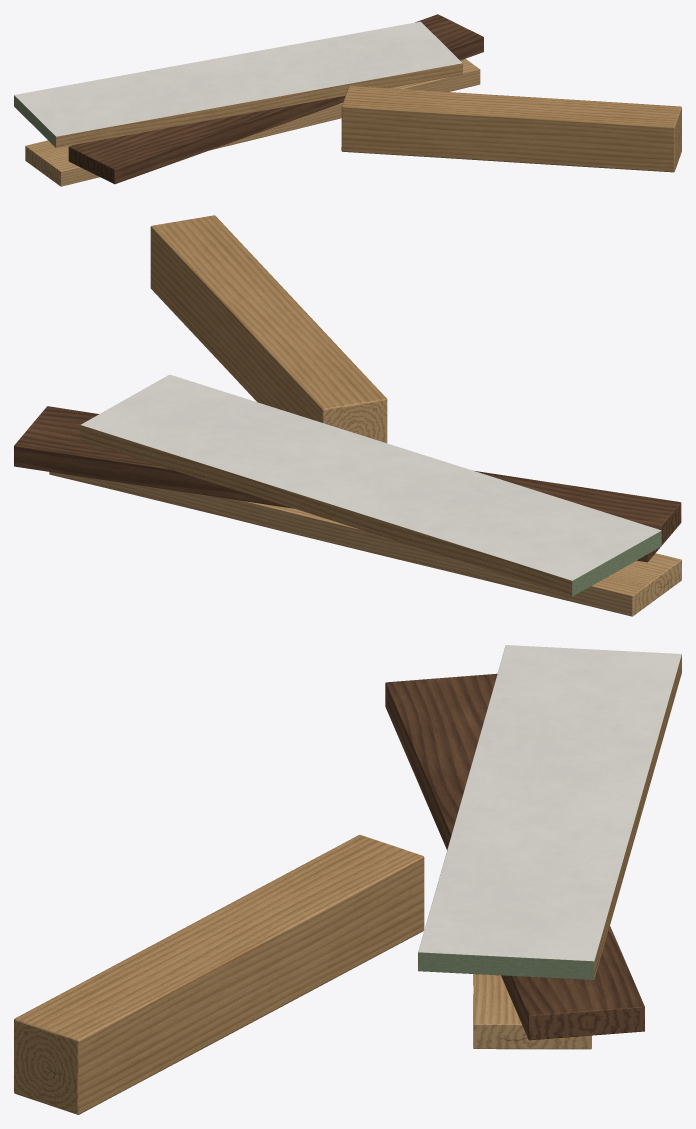
The picture shows the model from 3 angles, top to bottom: view 1: azimuth 30°, elevation 25°; view 2: azimuth 150°, elevation 25°; view 3: azimuth 270°, elevation 25°; orthographic projection. The views are drawn at different scales.
Visible parts, largest first — view 1: MDFBoard, OakBeam, WalnutPlank, OakPlank; view 2: MDFBoard, OakBeam, OakPlank, WalnutPlank; view 3: MDFBoard, OakBeam, WalnutPlank, OakPlank.
Part boxes in pixels (left/top/right/bottom): MDFBoard: left=14, top=21, right=462, bottom=147; OakBeam: left=341, top=86, right=681, bottom=172; WalnutPlank: left=68, top=14, right=483, bottom=184; OakPlank: left=25, top=58, right=480, bottom=186; MDFBoard: left=80, top=374, right=661, bottom=596; OakBeam: left=150, top=215, right=387, bottom=443; OakPlank: left=49, top=472, right=681, bottom=616; WalnutPlank: left=14, top=406, right=681, bottom=562; MDFBoard: left=418, top=645, right=681, bottom=980; OakBeam: left=14, top=835, right=424, bottom=1114; WalnutPlank: left=385, top=673, right=644, bottom=1040; OakPlank: left=473, top=974, right=591, bottom=1049.
Size of the model in its own units: 2.75 by 0.24 by 1.92.
7 materials, 7 textured.
